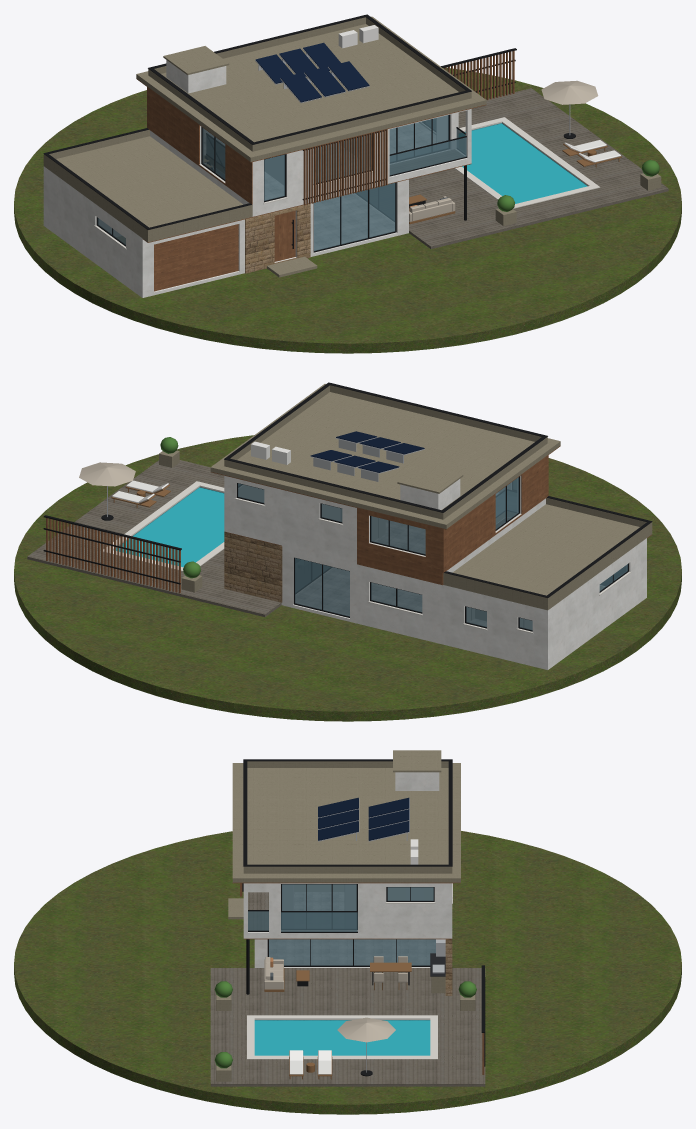
The model's file is farlo-casa-hero.glb.
3 views of the same model, one above another, from view 1: azimuth 30°, elevation 25°; view 2: azimuth 150°, elevation 25°; view 3: azimuth 270°, elevation 25° (orthographic).
Parts seen in each view (by area): view 1: Terreno_flat, Cobertura_arq, Superior_arq, Externo_arq, Terreo_arq, Cobertura_det, Superior_vid, Externo_vid, Terreo_det, Superior_detR, Terreo_vid, Externo_mob (+4 smaller); view 2: Terreno_flat, Superior_arq, Cobertura_arq, Terreo_arq, Externo_arq, Cobertura_det, Externo_detR, Externo_vid, Terreo_vid, Superior_vid, Externo_mob, Superior_det (+3 smaller); view 3: Terreno_flat, Cobertura_arq, Externo_arq, Superior_arq, Cobertura_det, Externo_vid, Superior_vid, Terreo_arq, Terreo_vid, Externo_mob, Externo_soft, Superior_det (+3 smaller).
Boxes of the visible parts, box(x1,y1,x2,y2) form: Terreno_flat: box(14, 68, 681, 353); Cobertura_arq: box(136, 16, 486, 162); Superior_arq: box(43, 87, 471, 242); Externo_arq: box(267, 88, 668, 277); Terreo_arq: box(43, 163, 408, 297); Cobertura_det: box(148, 14, 471, 144); Superior_vid: box(202, 115, 466, 200); Externo_vid: box(459, 123, 587, 203); Terreo_det: box(94, 156, 396, 291); Superior_detR: box(303, 129, 387, 205); Terreo_vid: box(97, 169, 395, 250); Externo_mob: box(409, 80, 661, 225); Terreno_flat: box(14, 435, 681, 721); Superior_arq: box(224, 455, 652, 610); Cobertura_arq: box(210, 384, 560, 529); Terreo_arq: box(224, 532, 646, 669); Externo_arq: box(27, 460, 281, 616); Cobertura_det: box(224, 382, 547, 512); Externo_detR: box(46, 518, 180, 593); Externo_vid: box(116, 487, 224, 567); Terreo_vid: box(295, 558, 627, 630); Superior_vid: box(238, 477, 518, 554); Externo_mob: box(79, 450, 202, 592); Superior_det: box(234, 476, 652, 597); Terreno_flat: box(14, 831, 681, 1114); Cobertura_arq: box(232, 750, 460, 883); Externo_arq: box(210, 898, 485, 1086); Superior_arq: box(243, 883, 452, 939); Cobertura_det: box(243, 759, 452, 866); Externo_vid: box(254, 1020, 430, 1055); Superior_vid: box(248, 884, 433, 931); Terreo_arq: box(254, 939, 452, 995); Terreo_vid: box(269, 939, 435, 965); Externo_mob: box(216, 939, 475, 1081); Externo_soft: box(264, 956, 407, 1074); Superior_det: box(242, 883, 452, 932).
Bounding box in the file's own units: 30.4 × 7.83 × 30.4.
Materials: 30 (10 with a texture image).
